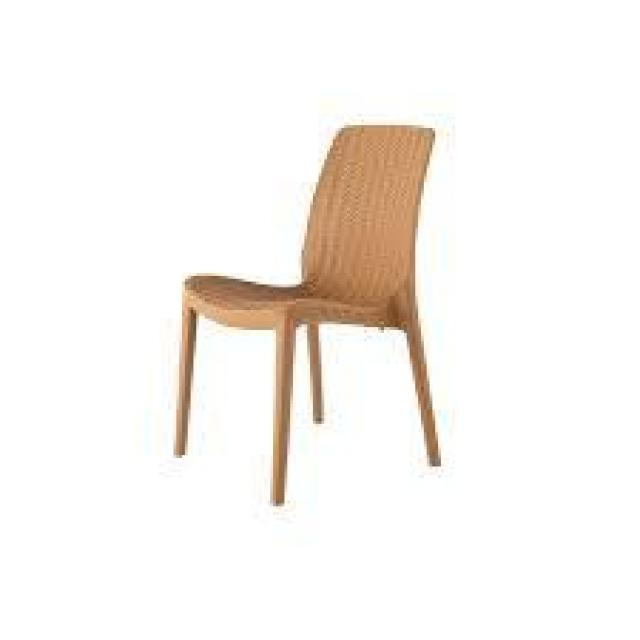chair: (136, 88, 495, 535)
